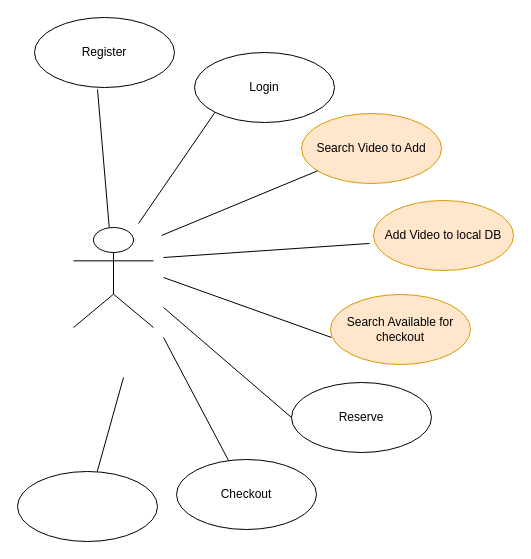
Some shapes in this 531 by 559 pixel diagram are drawn without their labels. The shapes that lost their labels are listed below. From the top down, each one's centre as x and y in pixels, then its label:
At [113,277]: "User / Owner Friends / Family Neighbor".
At [87,506]: "Checkin".
